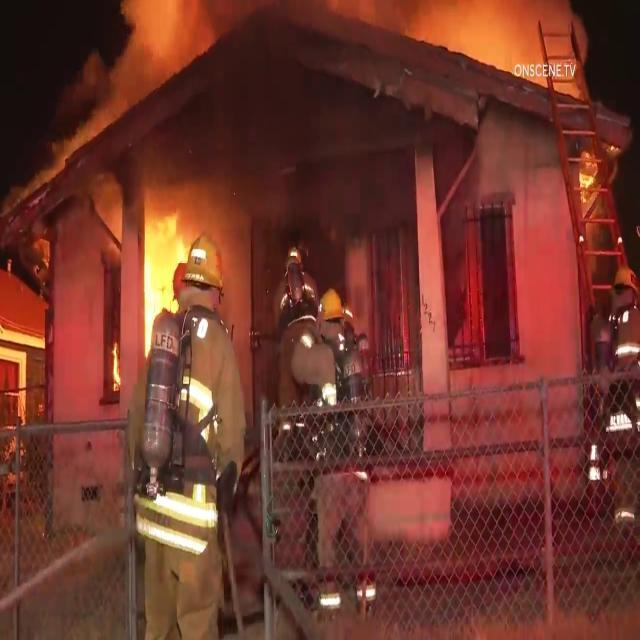Fire: (142, 222, 164, 340), (108, 338, 118, 378)
Smoke: (145, 0, 507, 212)
